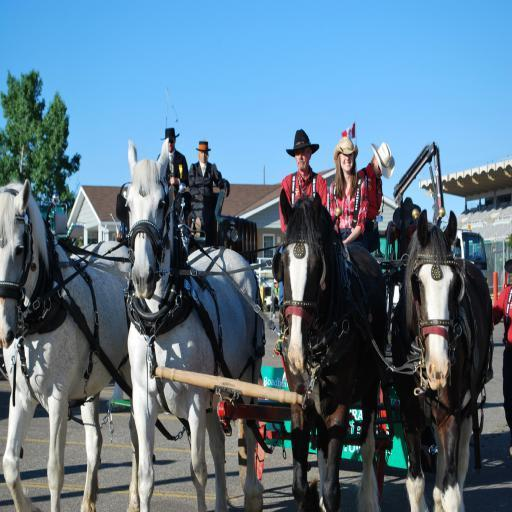horse: (127, 136, 268, 512), (0, 174, 137, 511), (272, 188, 390, 512), (386, 212, 492, 512)
